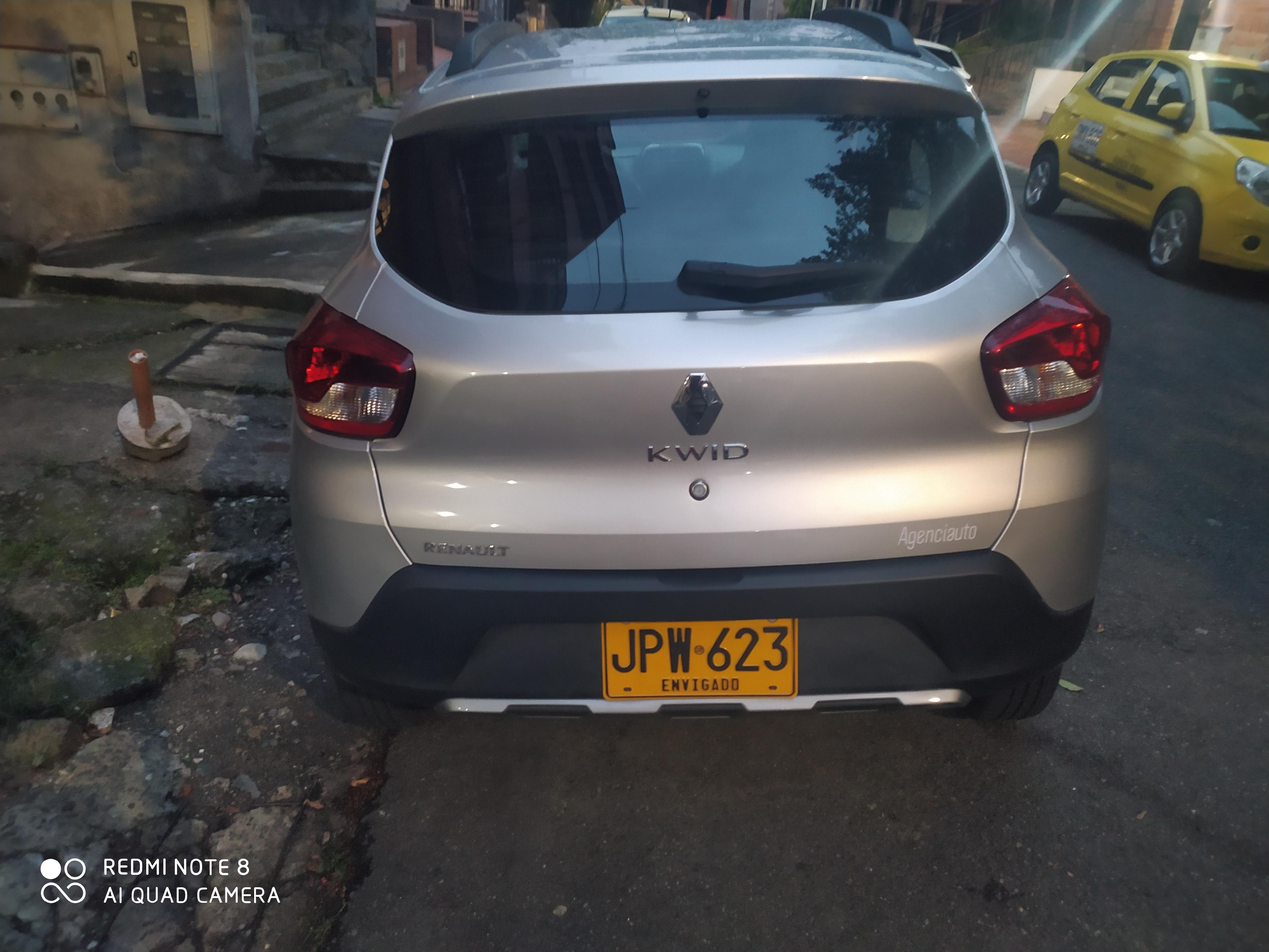placa: (588, 609, 807, 712)
